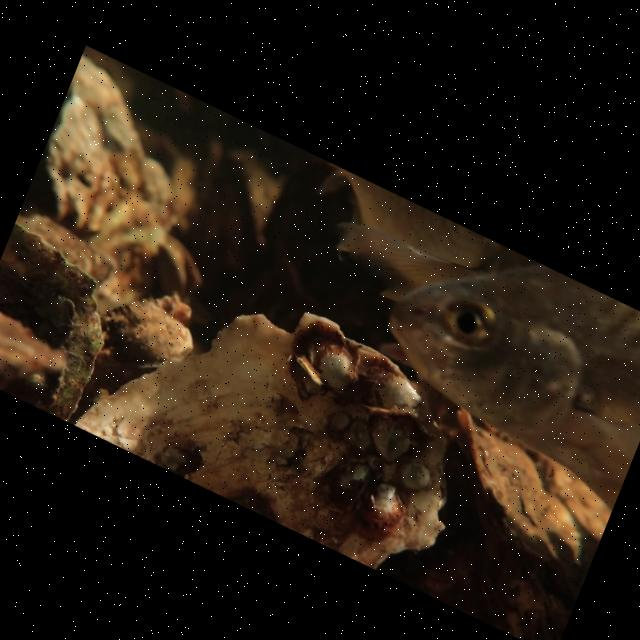Oyster-Closed: (454, 407, 588, 571), (100, 301, 194, 369)
Oyster-Indeterminate: (75, 310, 450, 571), (0, 223, 104, 423), (41, 81, 123, 238)
